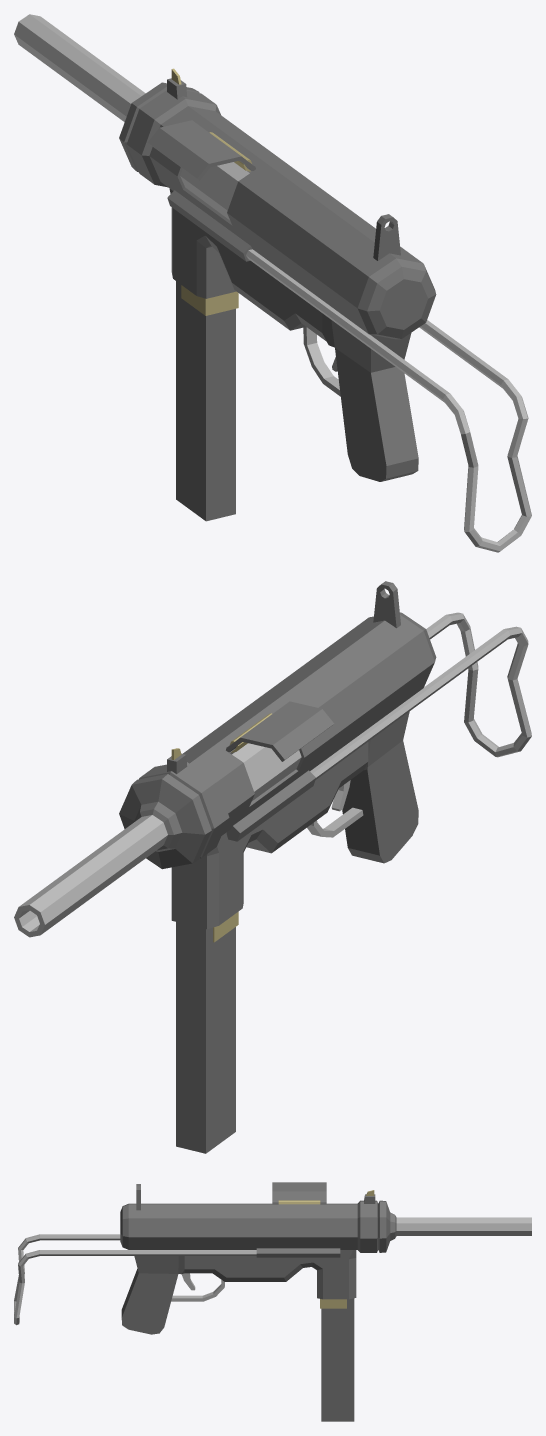
3 views of the same model, one above another, from view 1: azimuth 30°, elevation 25°; view 2: azimuth 150°, elevation 25°; view 3: azimuth 270°, elevation 25° (orthographic). The views are drawn at different scales.
Parts seen in each view (by area): view 1: M3GG; view 2: M3GG; view 3: M3GG.
Part boxes in pixels (<box>): M3GG: <box>14,14,531,552</box>; M3GG: <box>14,581,531,1153</box>; M3GG: <box>14,1182,531,1421</box>.
Size of the model in its own units: 112 by 400 by 808.
